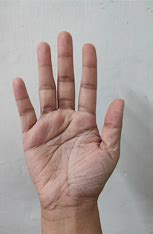palm: (12, 31, 125, 209)
